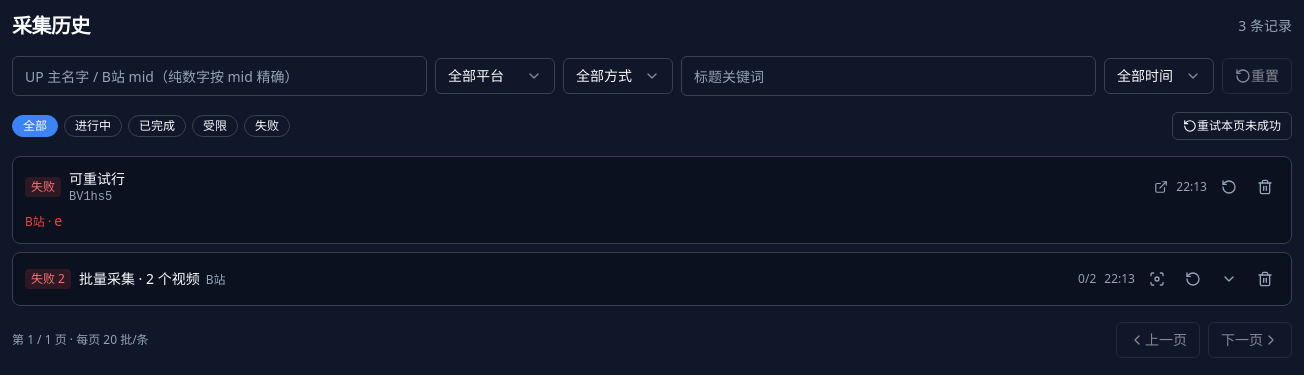
单行重试 + 删除单条 + 批次删除（toast + DELETE URL）
Expected: the text "可重试行" is shown, left=69, top=169, right=125, bottom=188
Click the button named "重试采集" at [1229, 187], box left=1215, top=173, right=1243, bottom=201
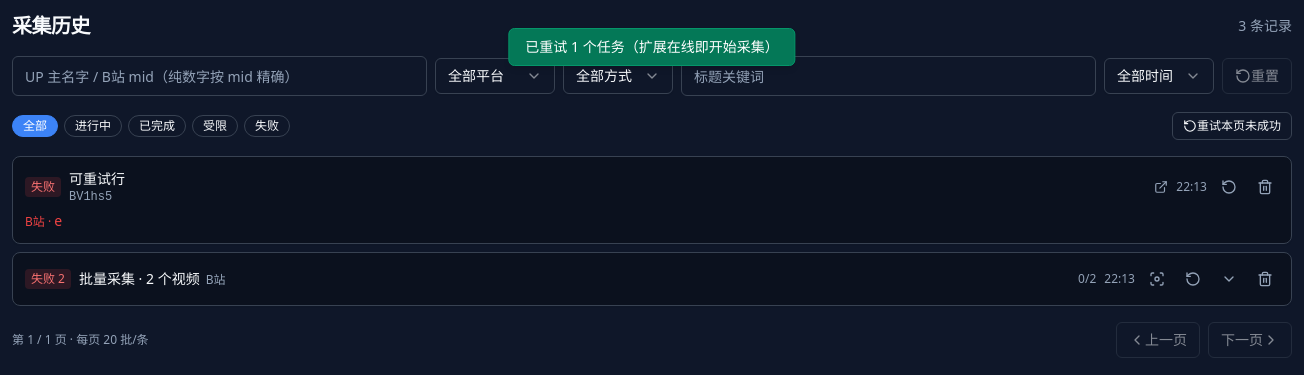
Expected: the text "已重试 1 个任务（扩展在线即开始采集）" is shown, left=508, top=28, right=796, bottom=66
Click the button named "删除任务" at [1265, 187], box left=1251, top=173, right=1279, bottom=201
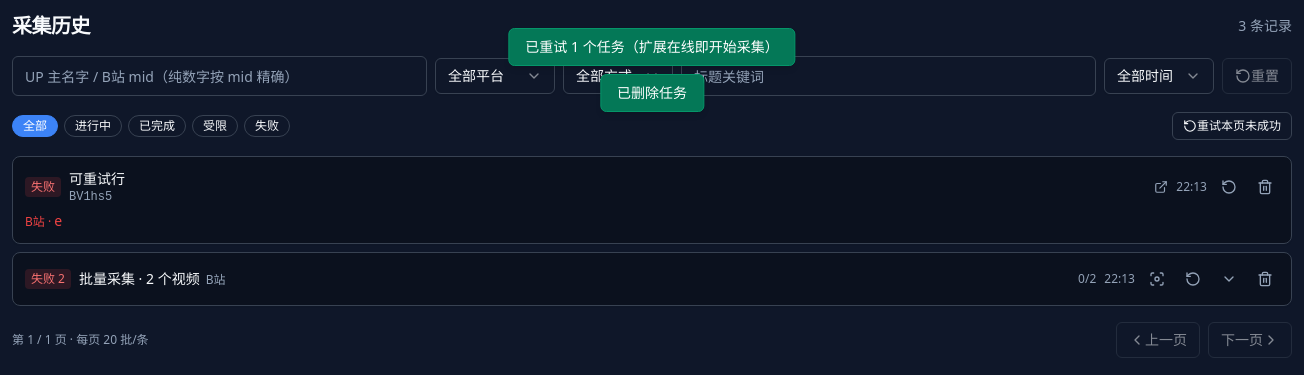
Expected: the text "已删除任务" is shown, left=600, top=74, right=704, bottom=112
# 批次删除（乐观移除后 DELETE×2 + reload）
Click the button named "删除整个批次" at [1265, 279], box left=1251, top=265, right=1279, bottom=293
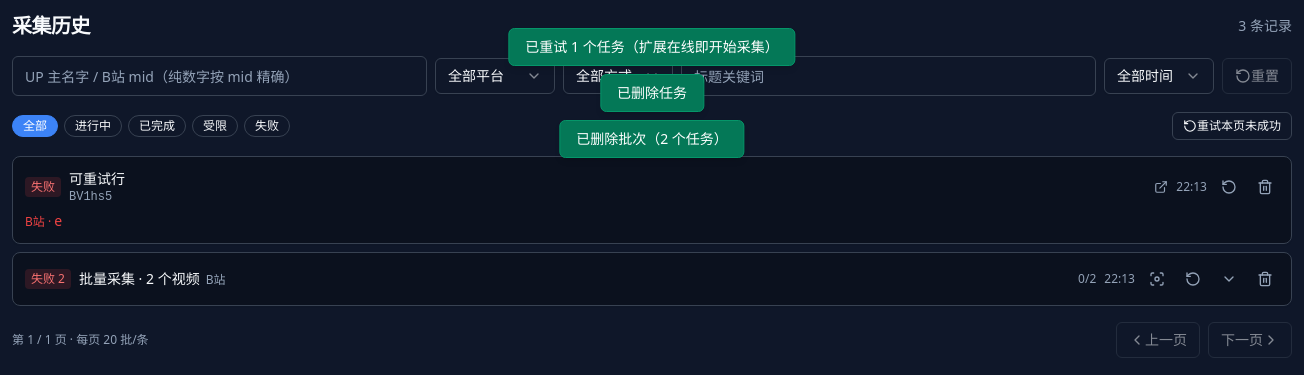
Expected: the text "已删除批次（2 个任务）" is shown, left=559, top=120, right=745, bottom=158
